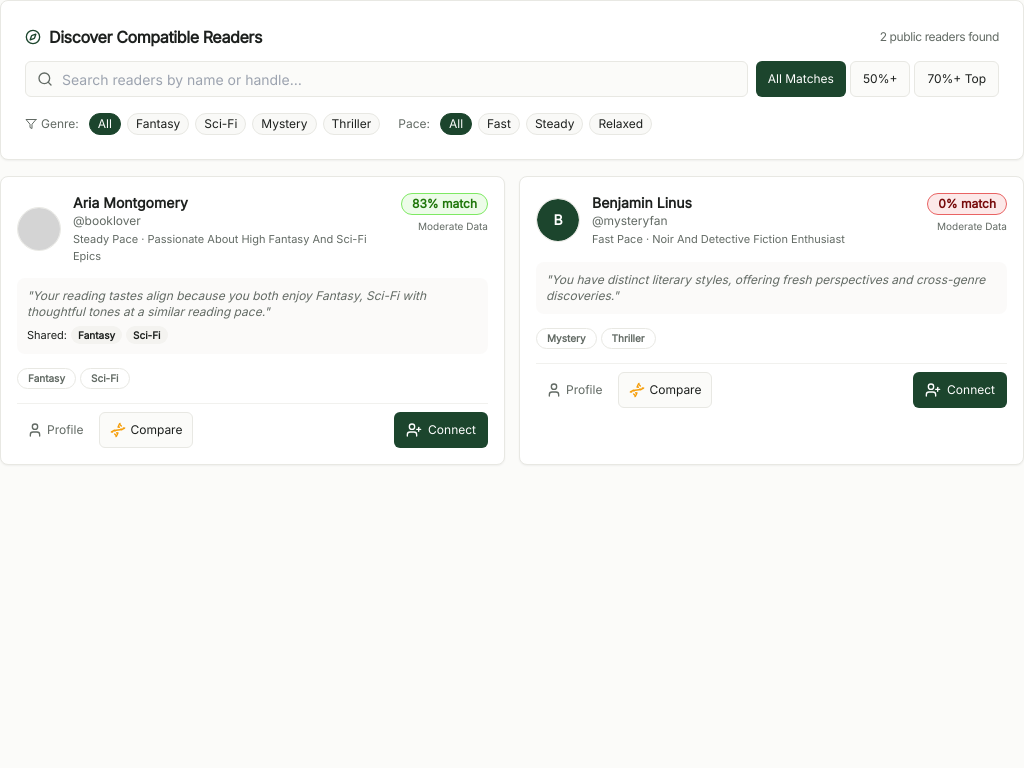
Test case: ReaderDiscoveryList › opens DNA comparison modal when clicking Compare
Click the button "Compare" below "Shared:": (146, 430) [99,412,193,448]
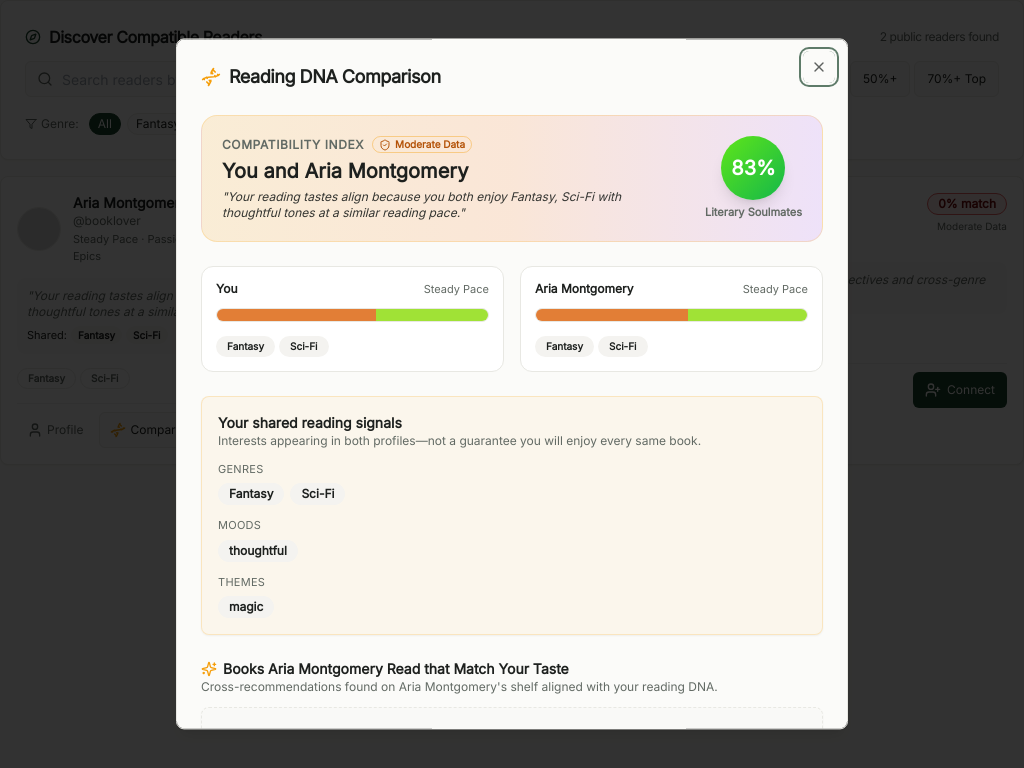
Expected: the heading "Reading DNA Comparison" is shown, [201,66,441,87]
